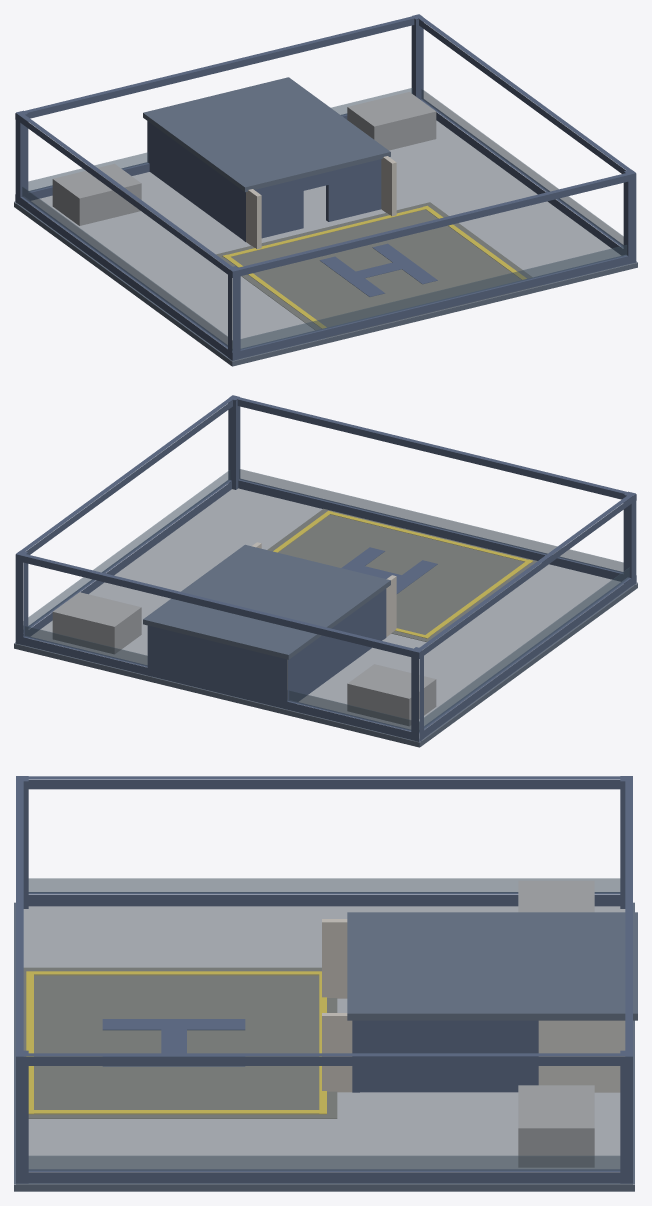
File: office-roof-a.glass-v2.lod0.glb
The picture shows the model from 3 angles, top to bottom: view 1: azimuth 30°, elevation 25°; view 2: azimuth 150°, elevation 25°; view 3: azimuth 270°, elevation 25°; orthographic projection. The views are drawn at different scales.
Visible parts, largest first — view 1: office-roof-a; view 2: office-roof-a; view 3: office-roof-a.
Boxes of the visible parts, x1,y1,x2,y2 form: office-roof-a: [14, 14, 637, 366]; office-roof-a: [14, 395, 637, 747]; office-roof-a: [14, 776, 637, 1191].
Bounding box in the file's own units: 26.16 × 5.84 × 24.48.
